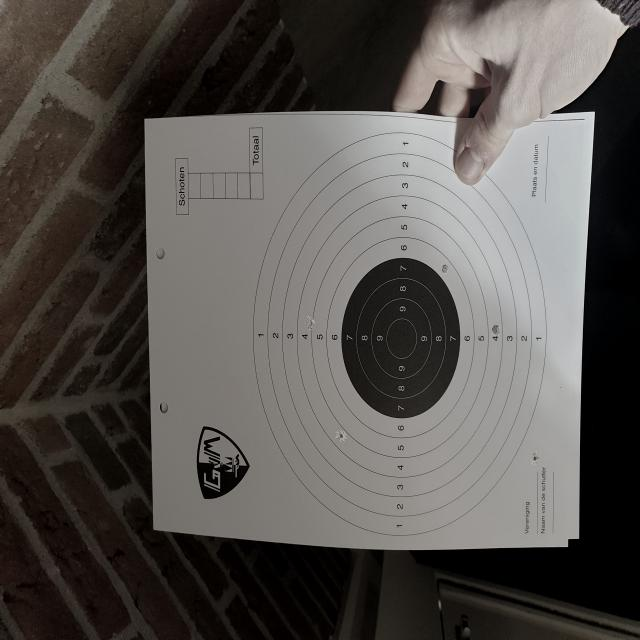0: (530, 452, 540, 464)
4: (334, 431, 346, 442), (492, 324, 500, 336)
5: (304, 316, 314, 330)
6: (442, 264, 448, 275)
Target: (251, 130, 547, 536)
black_contour: (341, 257, 460, 418)
